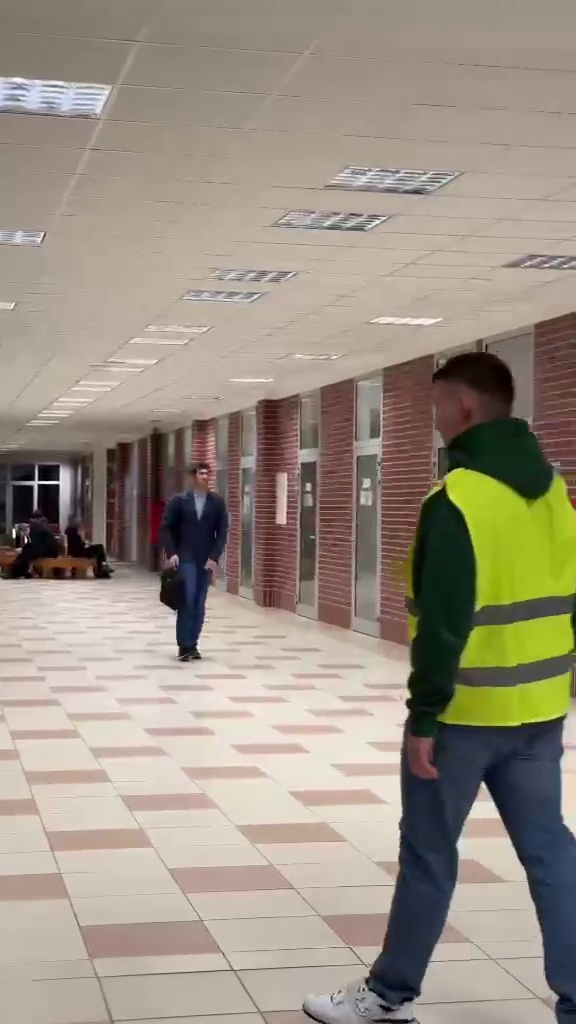no vest: (151, 457, 227, 667)
vest: (356, 346, 576, 1024)
